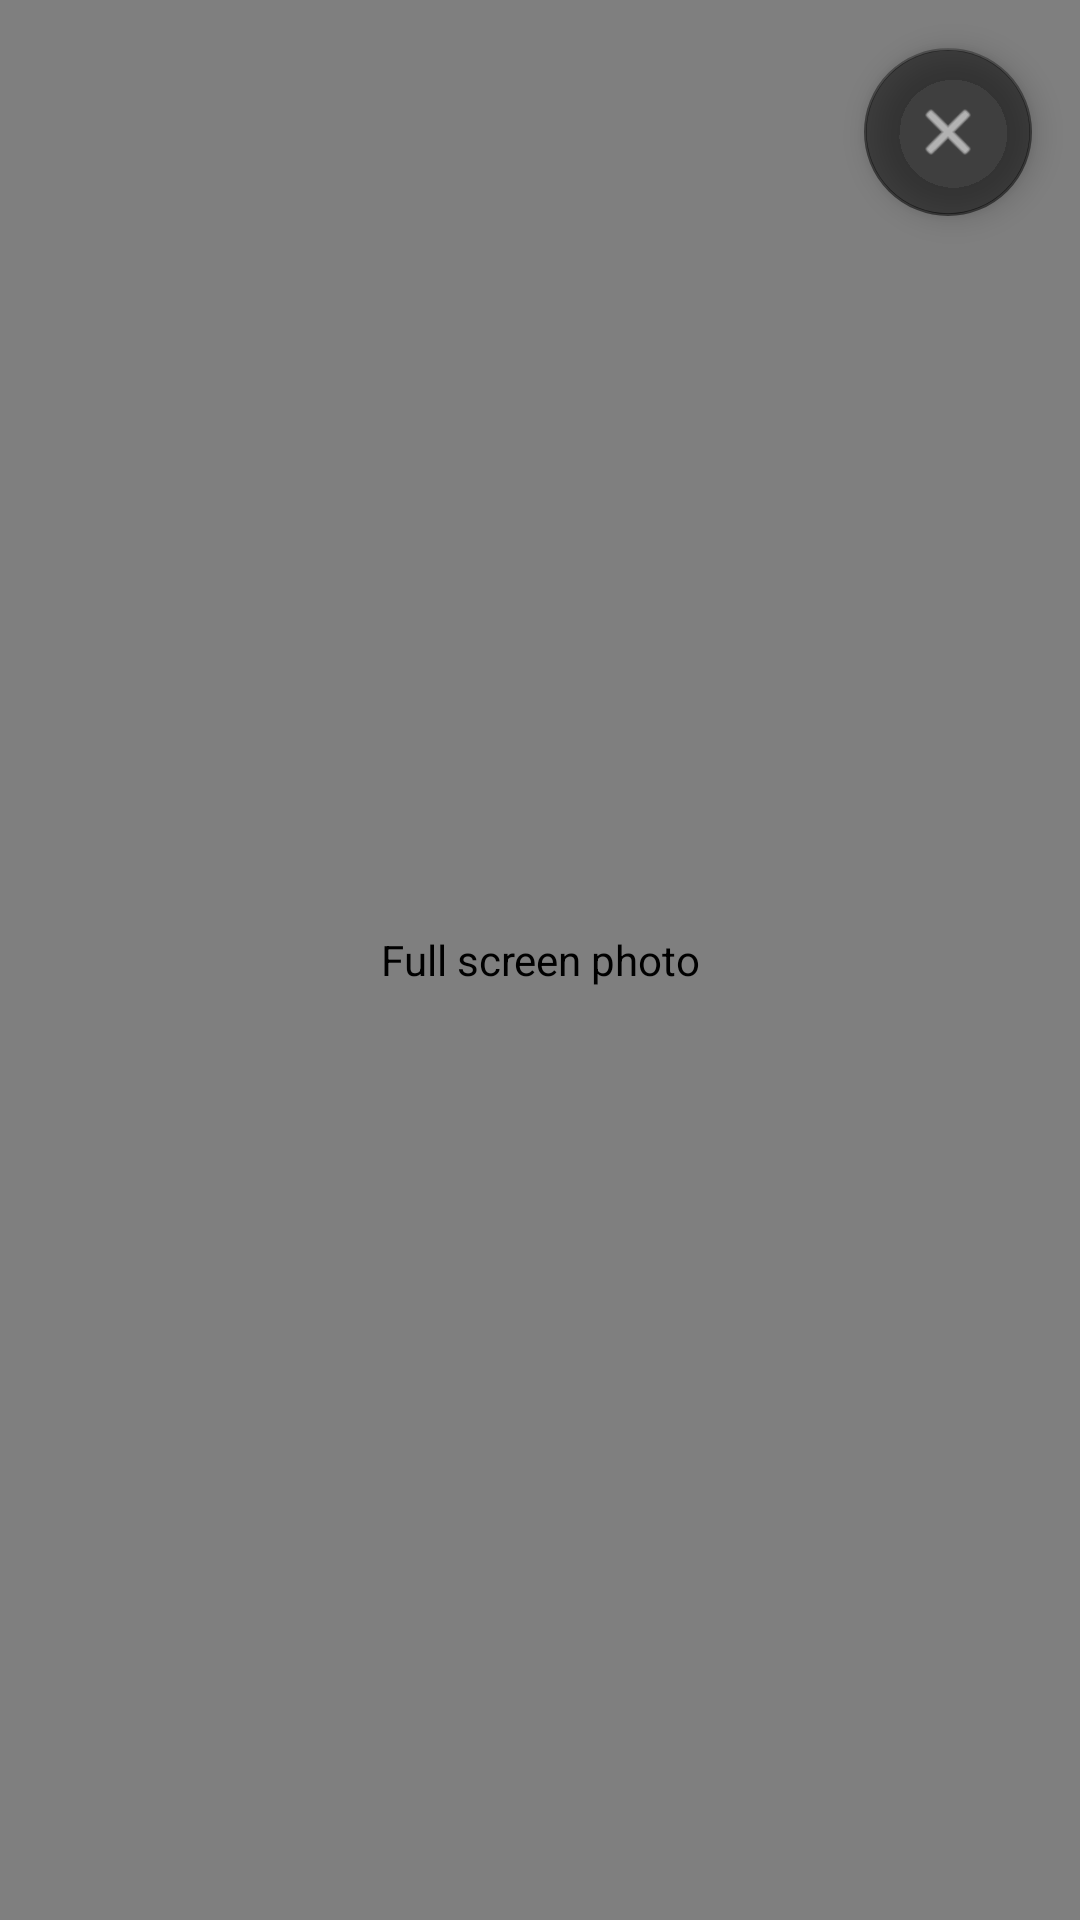

Screen size 1080*1920. Icon name, then its center in pixels as (x,y):
Close: (948,132)
